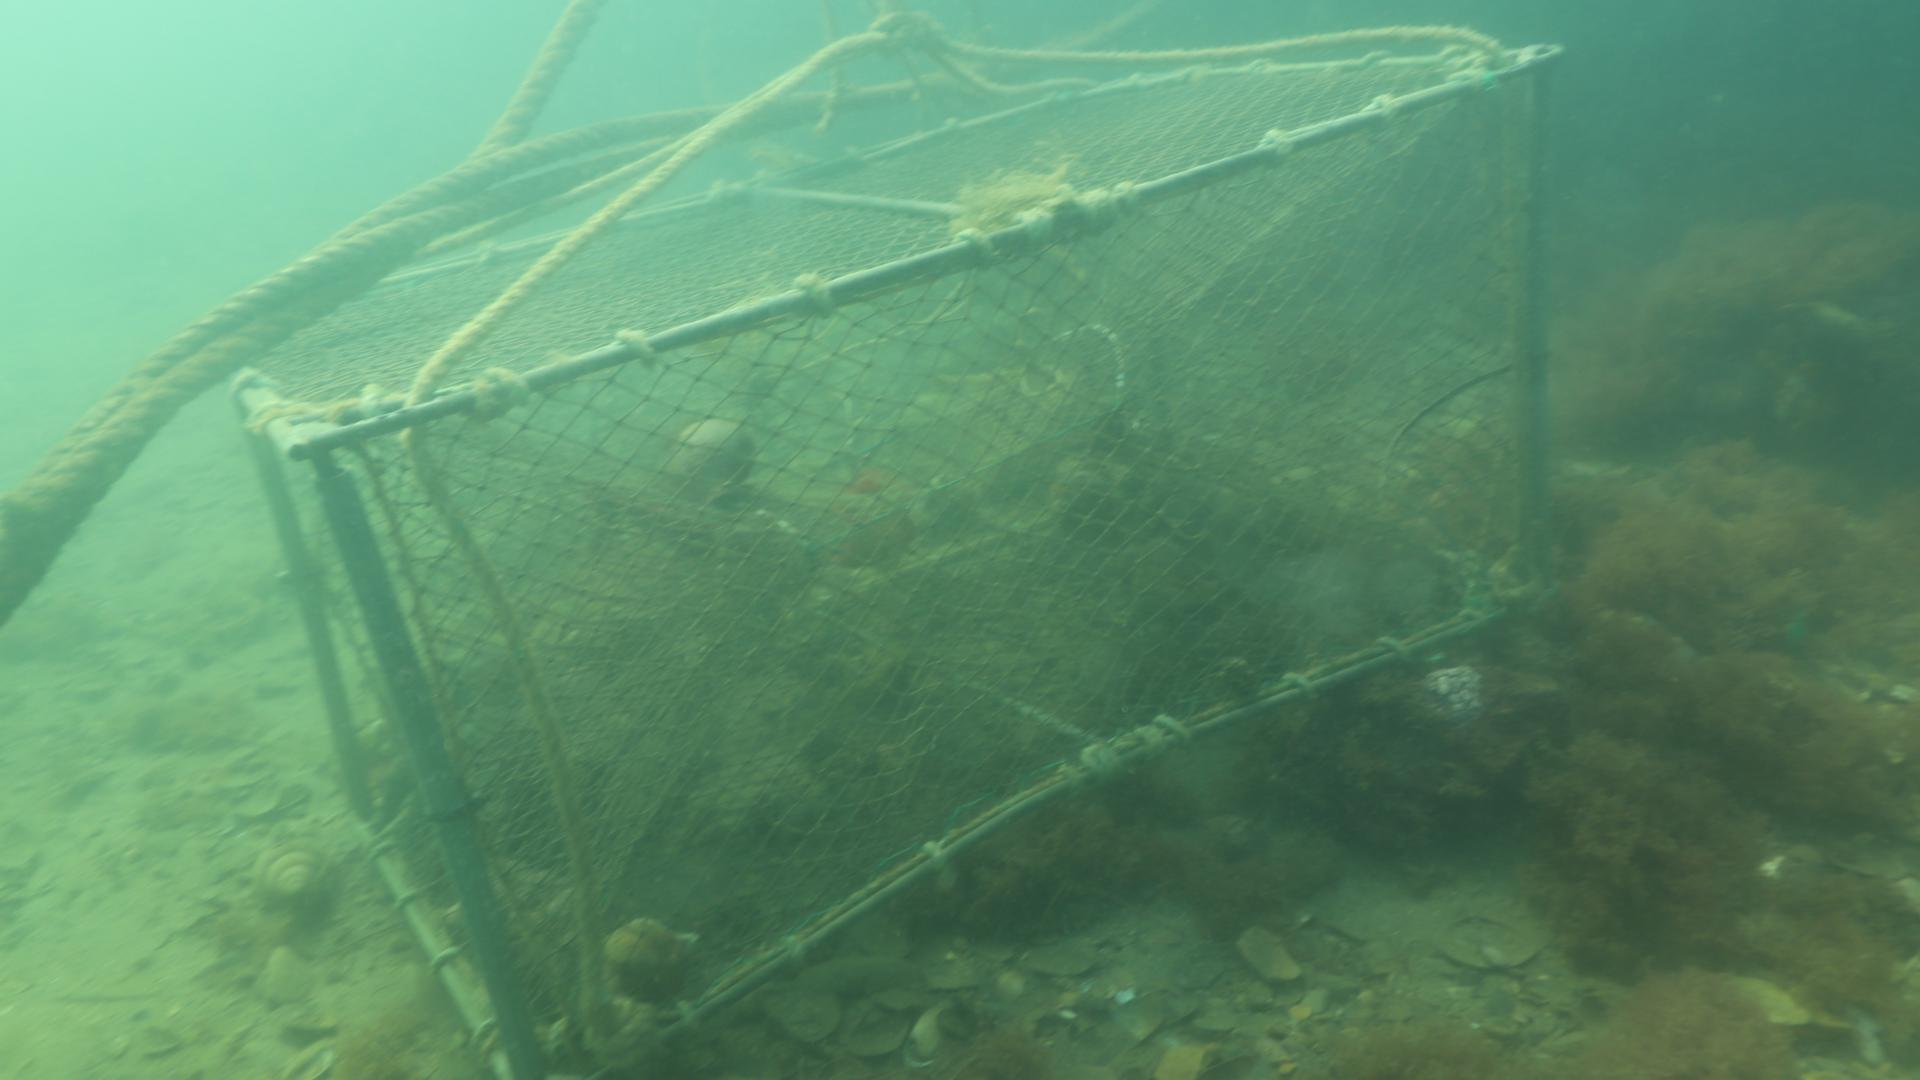bundle of ropes: (0, 0, 1505, 625)
rectangular fish trap: (225, 40, 1561, 1080)
